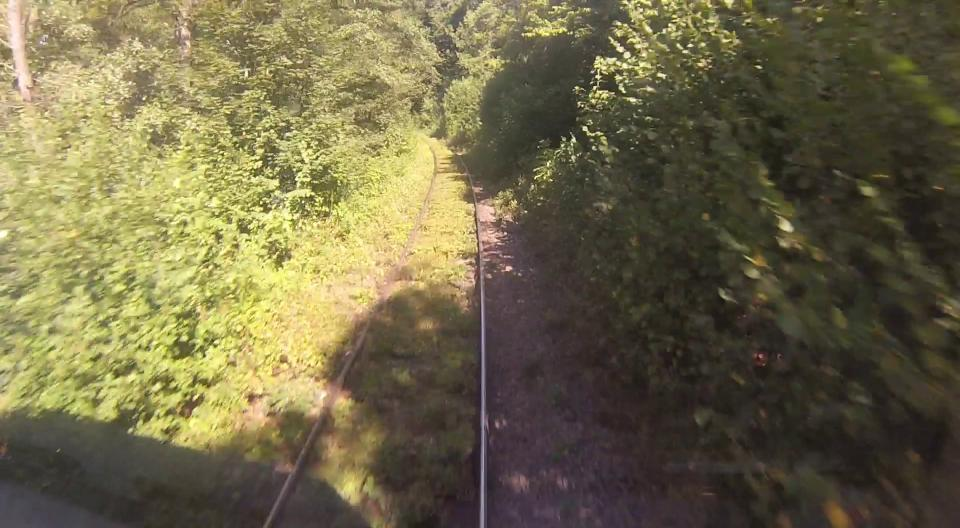Plant: (180, 134, 434, 526), (312, 145, 479, 528)
